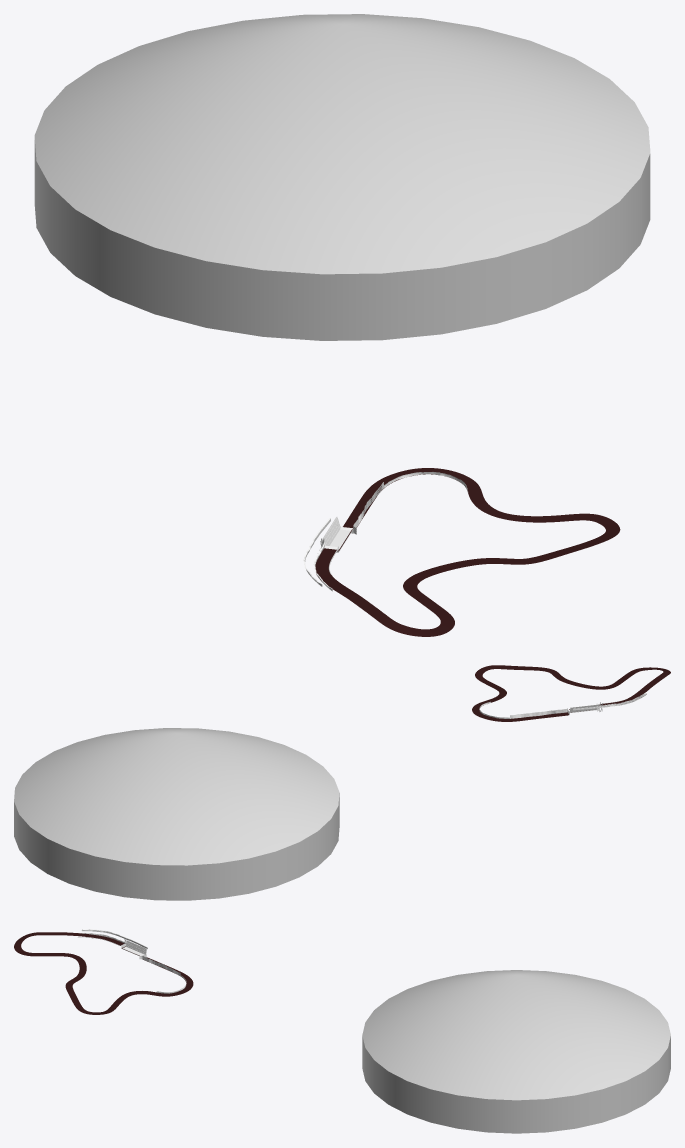
The picture shows the model from 3 angles, top to bottom: view 1: azimuth 30°, elevation 25°; view 2: azimuth 150°, elevation 25°; view 3: azimuth 270°, elevation 25°; orthographic projection. The views are drawn at different scales.
Parts seen in each view (by area): view 1: Circle.001, transform1; view 2: Circle.001, transform1; view 3: Circle.001, transform1.
Part boxes in pixels (x1,y1,x2,y2): Circle.001: (34, 14, 650, 340); transform1: (315, 468, 620, 636); Circle.001: (14, 728, 339, 900); transform1: (472, 665, 670, 721); Circle.001: (362, 970, 670, 1133); transform1: (14, 932, 193, 1014).
Size of what is drawn, in the model's own units: 175700 by 43332 by 276510.
